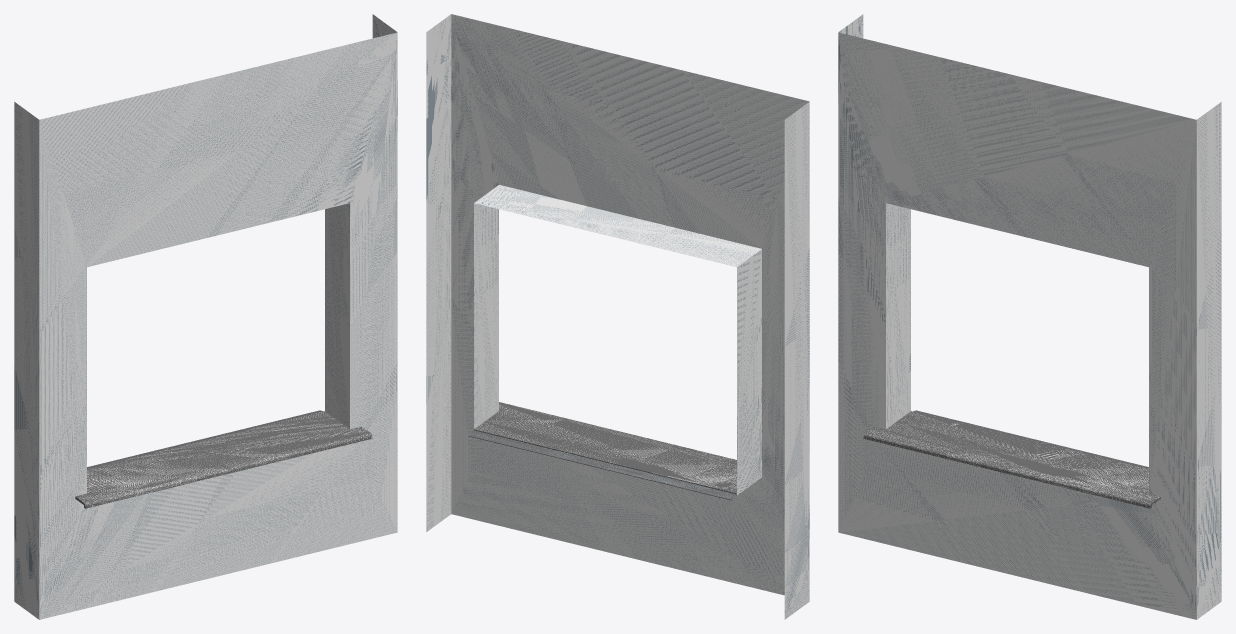
The model's file is WindowBlock_os_[300x400]_220x181x[090].dae.
The picture shows the model from 3 angles, left to right: view 1: azimuth 30°, elevation 25°; view 2: azimuth 150°, elevation 25°; view 3: azimuth 330°, elevation 25°; orthographic projection.
Parts seen in each view (by area): view 1: group_2 (×2), group_1 (×2); view 2: group_2 (×2), group_1 (×2); view 3: group_2 (×2), group_1 (×2).
Part boxes in pixels (x1,y1,x2,y2): group_2 (×2): (14, 14, 397, 619); group_1 (×2): (75, 410, 372, 508); group_2 (×2): (426, 14, 809, 619); group_1 (×2): (469, 402, 736, 500); group_2 (×2): (838, 14, 1221, 619); group_1 (×2): (863, 410, 1160, 508).
Bounding box in the file's own units: 118 × 23.03 × 157.
